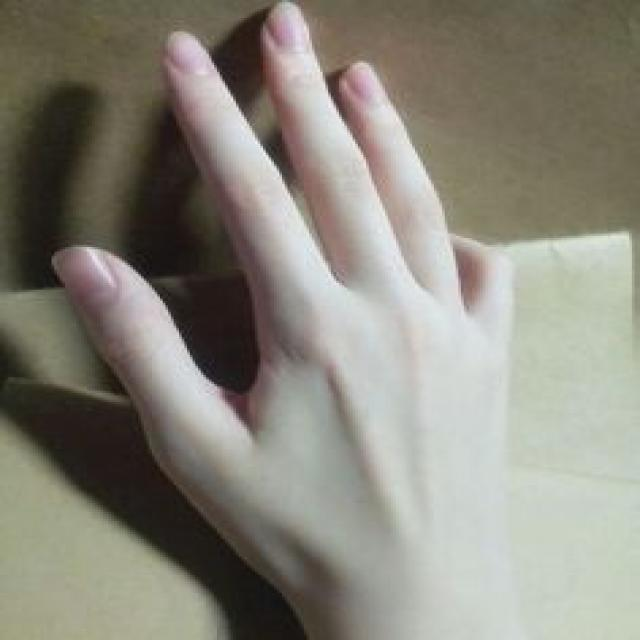bare_hand: (53, 0, 526, 634)
